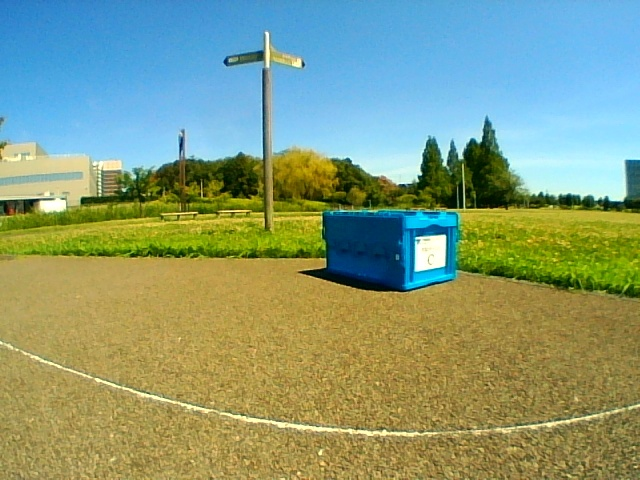blue_box: (324, 210, 456, 281)
tag_c: (416, 237, 446, 269)
